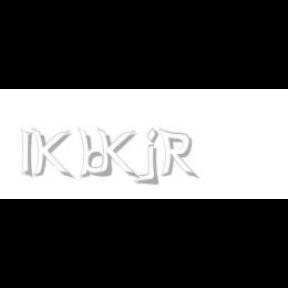K: (31, 128, 71, 180), (96, 128, 136, 180)
R: (158, 128, 196, 180)
b: (77, 128, 115, 178)
j: (144, 128, 172, 186)
l: (21, 128, 37, 180)
